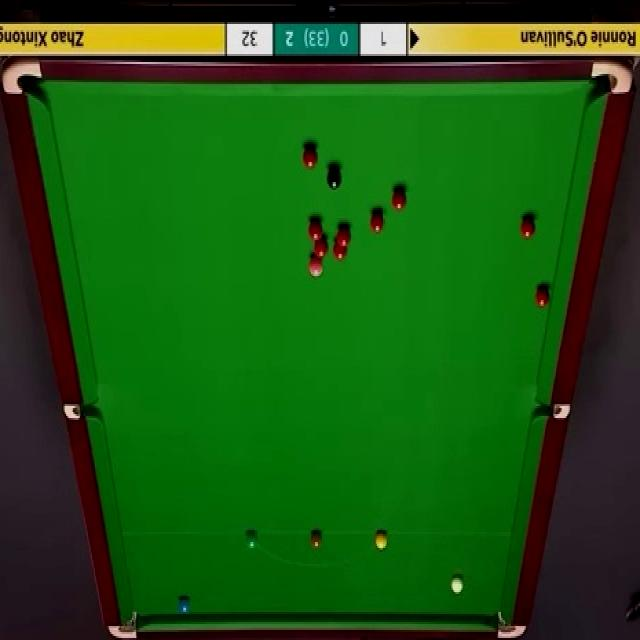black-ball: (325, 167, 342, 190)
blue-ball: (179, 596, 191, 616)
brown-ball: (309, 530, 322, 550)
green-ball: (245, 529, 259, 550)
pink-ball: (307, 255, 323, 280)
red-ball: (334, 225, 352, 248), (521, 215, 536, 242), (308, 218, 324, 243), (390, 189, 408, 211), (312, 235, 328, 259), (332, 240, 348, 262), (534, 285, 550, 307), (371, 212, 386, 235), (303, 148, 317, 170)
white-ball: (451, 574, 464, 595)
yellow-ball: (374, 530, 389, 551)
